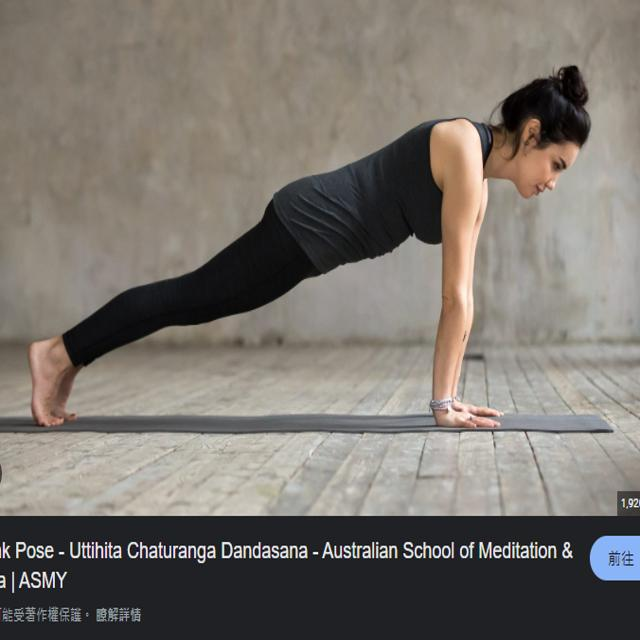Plank_Pose: (21, 60, 600, 433)
